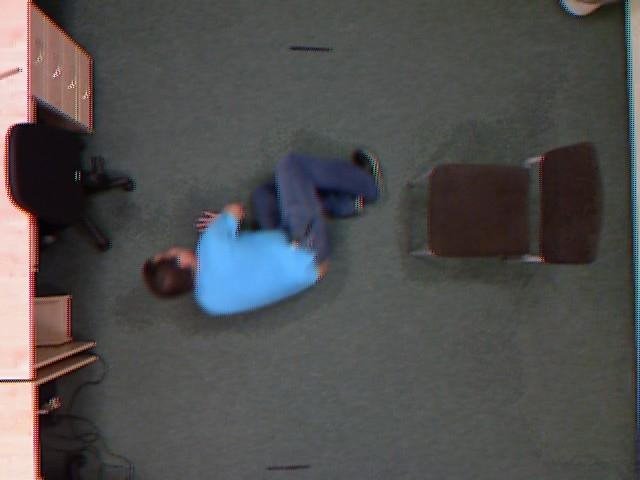FallenBody: (132, 145, 392, 321)
